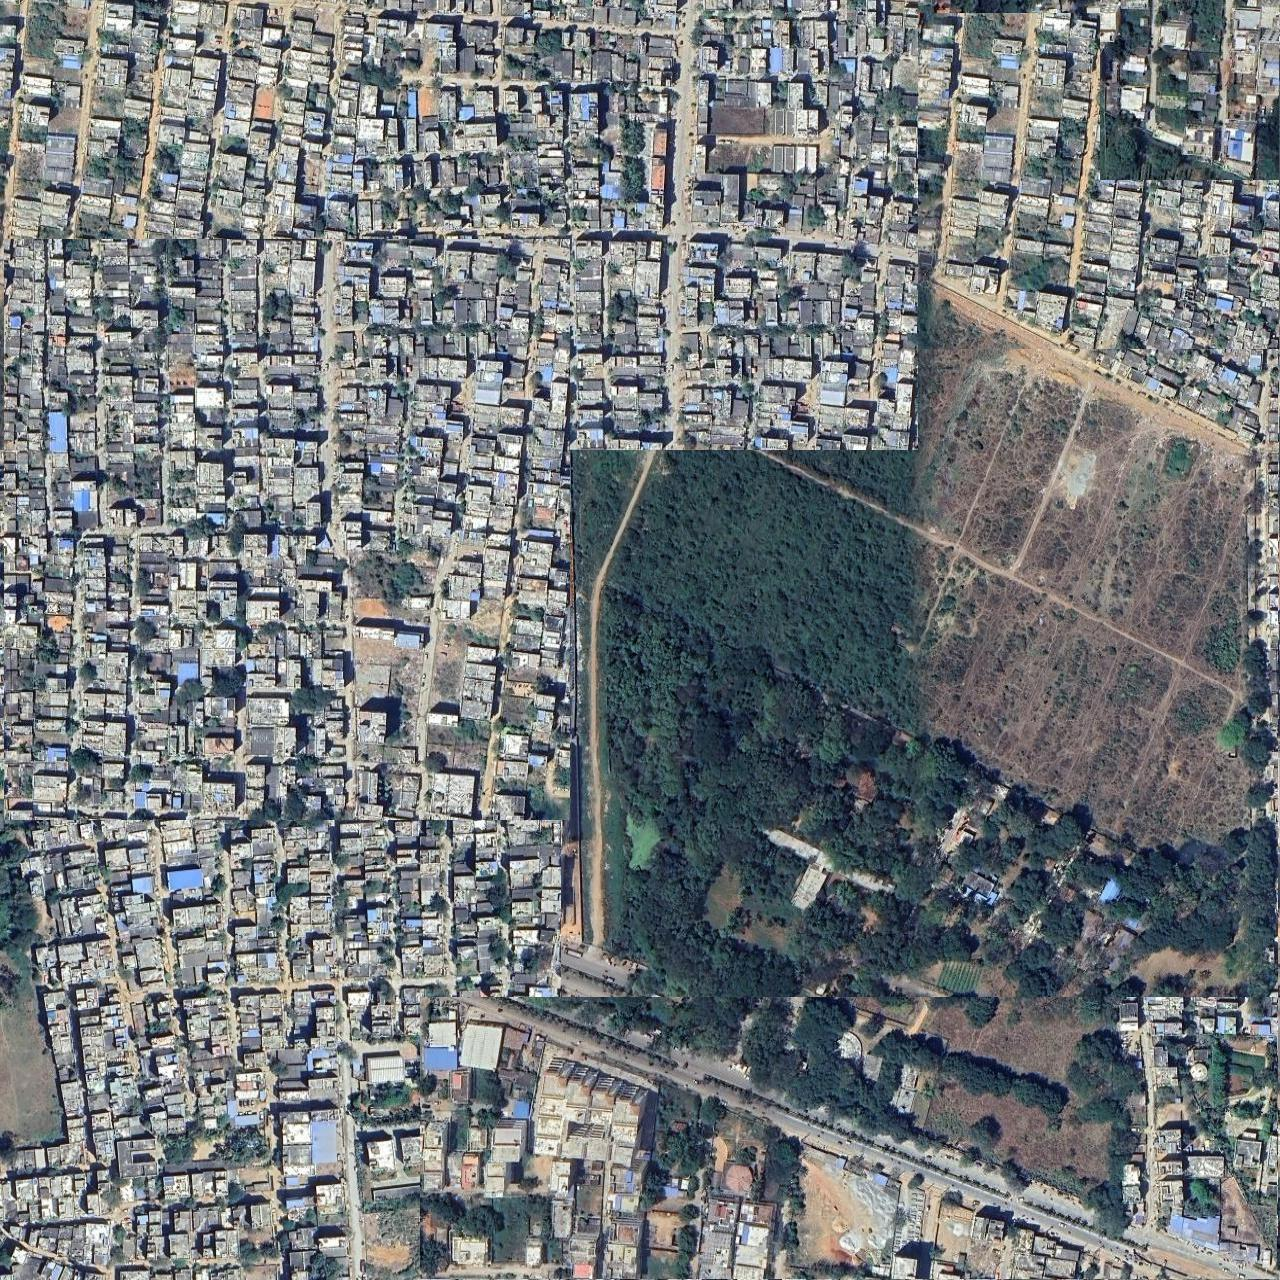greenery: (561, 349, 1278, 1235), (578, 13, 1279, 719)
house: (0, 0, 918, 450), (0, 594, 551, 1278), (5, 239, 570, 821), (420, 998, 1276, 1280), (1101, 0, 1279, 181)
